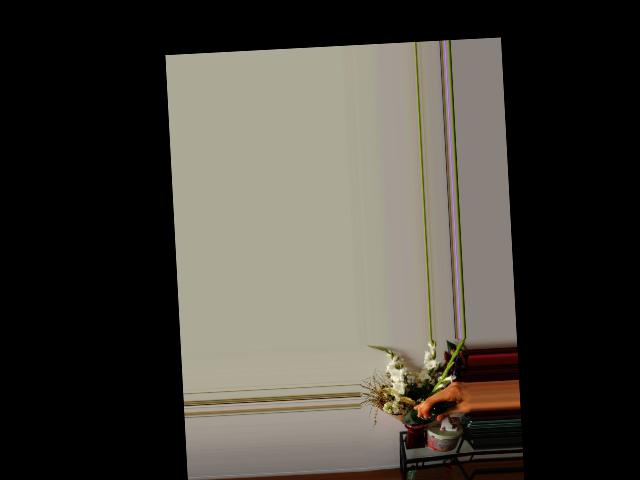beer: (402, 402, 448, 427)
